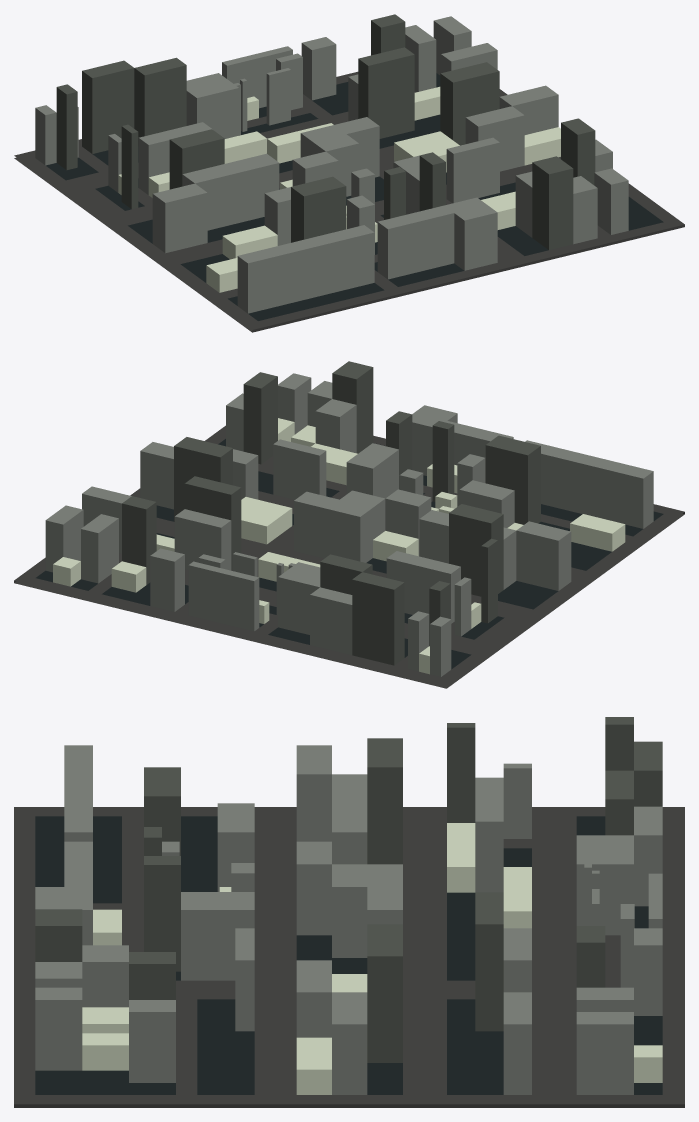
File: city_prototypefbx.fbx
3 views of the same model, one above another, from view 1: azimuth 30°, elevation 25°; view 2: azimuth 150°, elevation 25°; view 3: azimuth 270°, elevation 25° (orthographic). The views are drawn at different scales.
Visible parts, largest first — view 1: land.002, land.008, route.001, land.004, land.009; view 2: land.002, land.008, route.001, land.004, land.009; view 3: land.002, route.001, land.008, land.009, land.004.
Boxes of the visible parts, box(x1,y1,x2,y2) form: land.002: box(35, 16, 628, 313); land.008: box(56, 14, 595, 249); route.001: box(14, 71, 684, 332); land.004: box(118, 86, 560, 292); land.009: box(46, 73, 663, 320); land.002: box(45, 373, 653, 676); land.008: box(122, 361, 540, 665); route.001: box(14, 425, 684, 688); land.004: box(53, 418, 625, 674); land.009: box(36, 439, 663, 669); land.002: box(35, 745, 662, 1094); route.001: box(14, 807, 684, 1107); land.008: box(35, 717, 662, 1062); land.009: box(35, 816, 662, 1094); land.004: box(82, 823, 662, 1094).
Bounding box in the file's own units: 6500 × 1127 × 6202.
